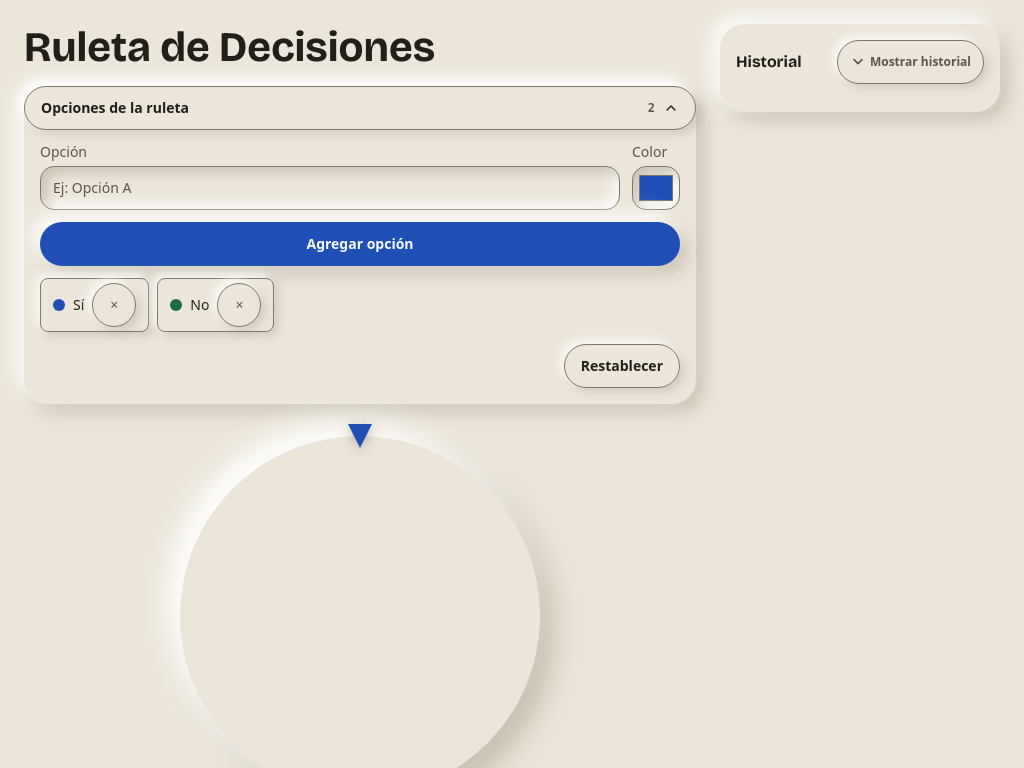
RoulettePage — opciones › agrega una opción y resetea el label y el color
Type "Opción A" into the field labelled "Opción".
click(330, 188); type("Opción A")  # box [40, 166, 620, 210]
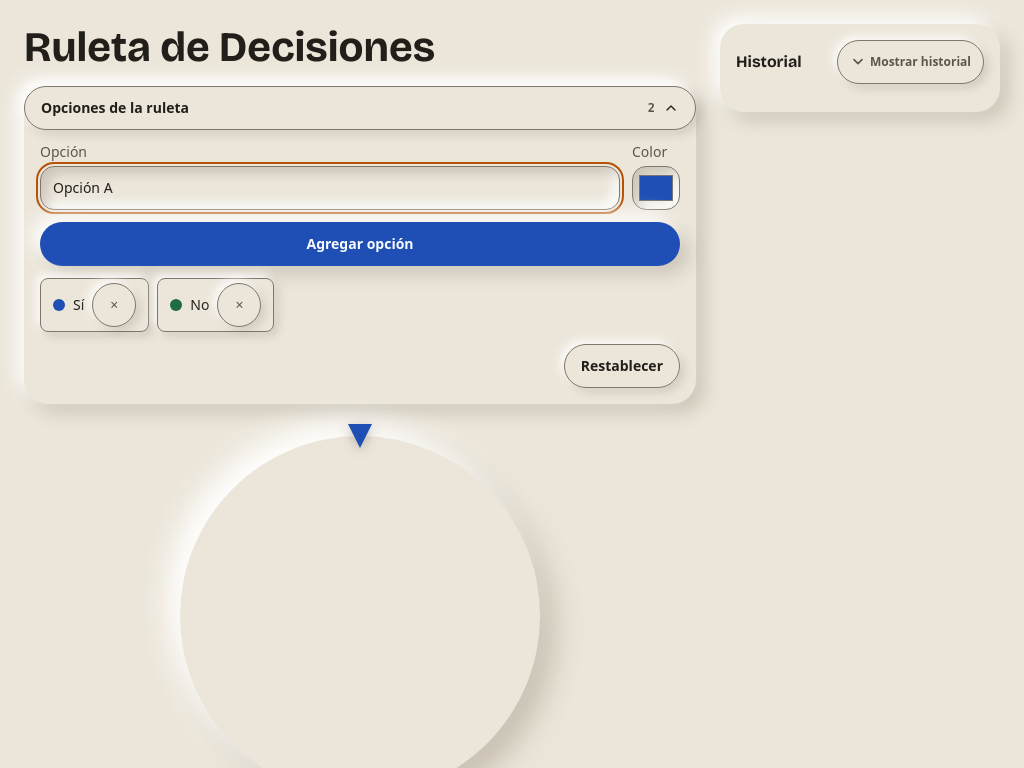
Type "#ff0000" into the colour field labelled "Color".
click(656, 188); type("#ff0000")  # box [632, 166, 680, 210]
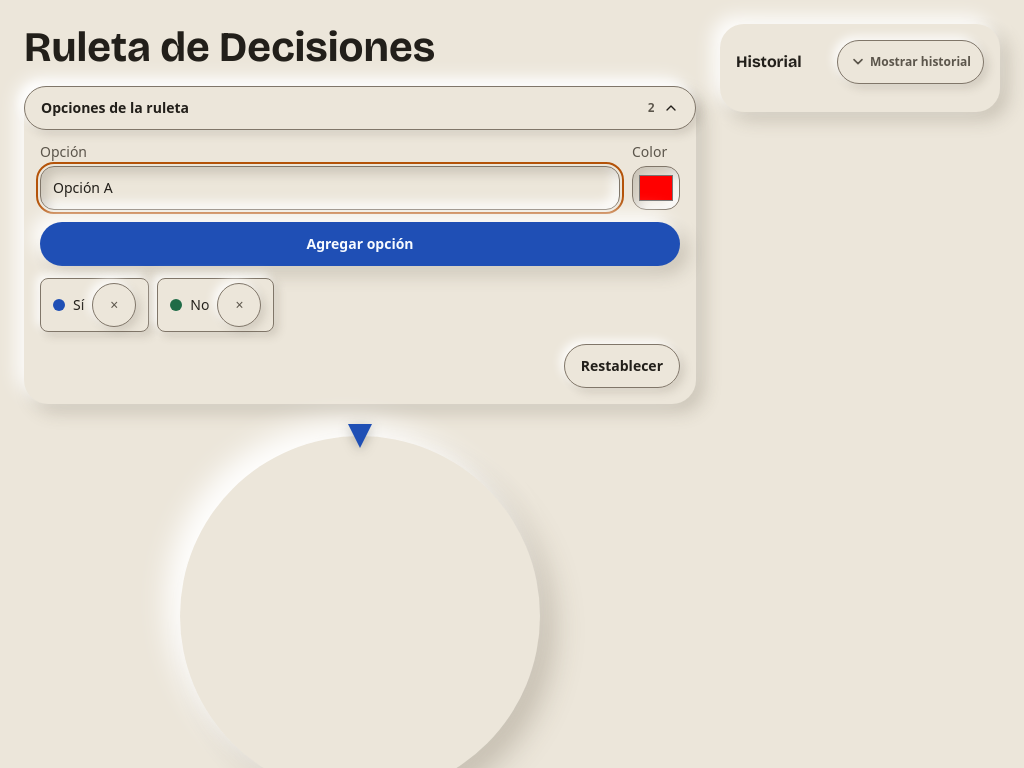
Click the button "Agregar opción".
click(360, 244)  # box [40, 222, 680, 266]
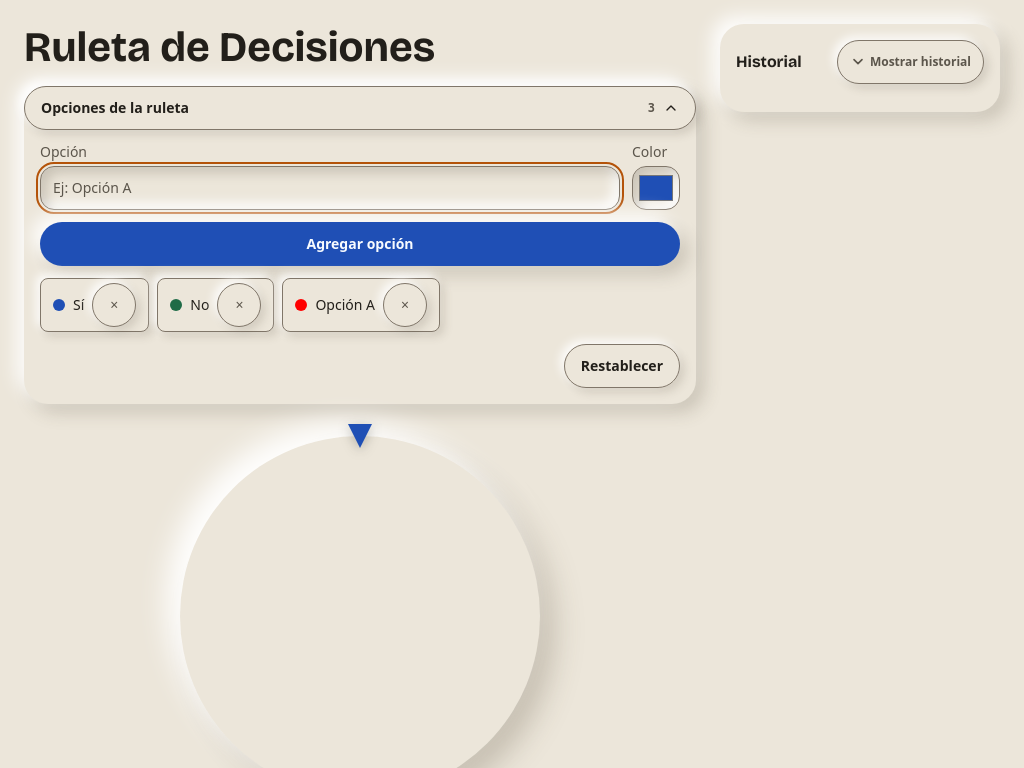
Expected: the text "Opción A" is shown, [315, 295, 375, 315]
Expected: the colour field labelled "Color" holds "#1f4fb5", [632, 166, 680, 210]
